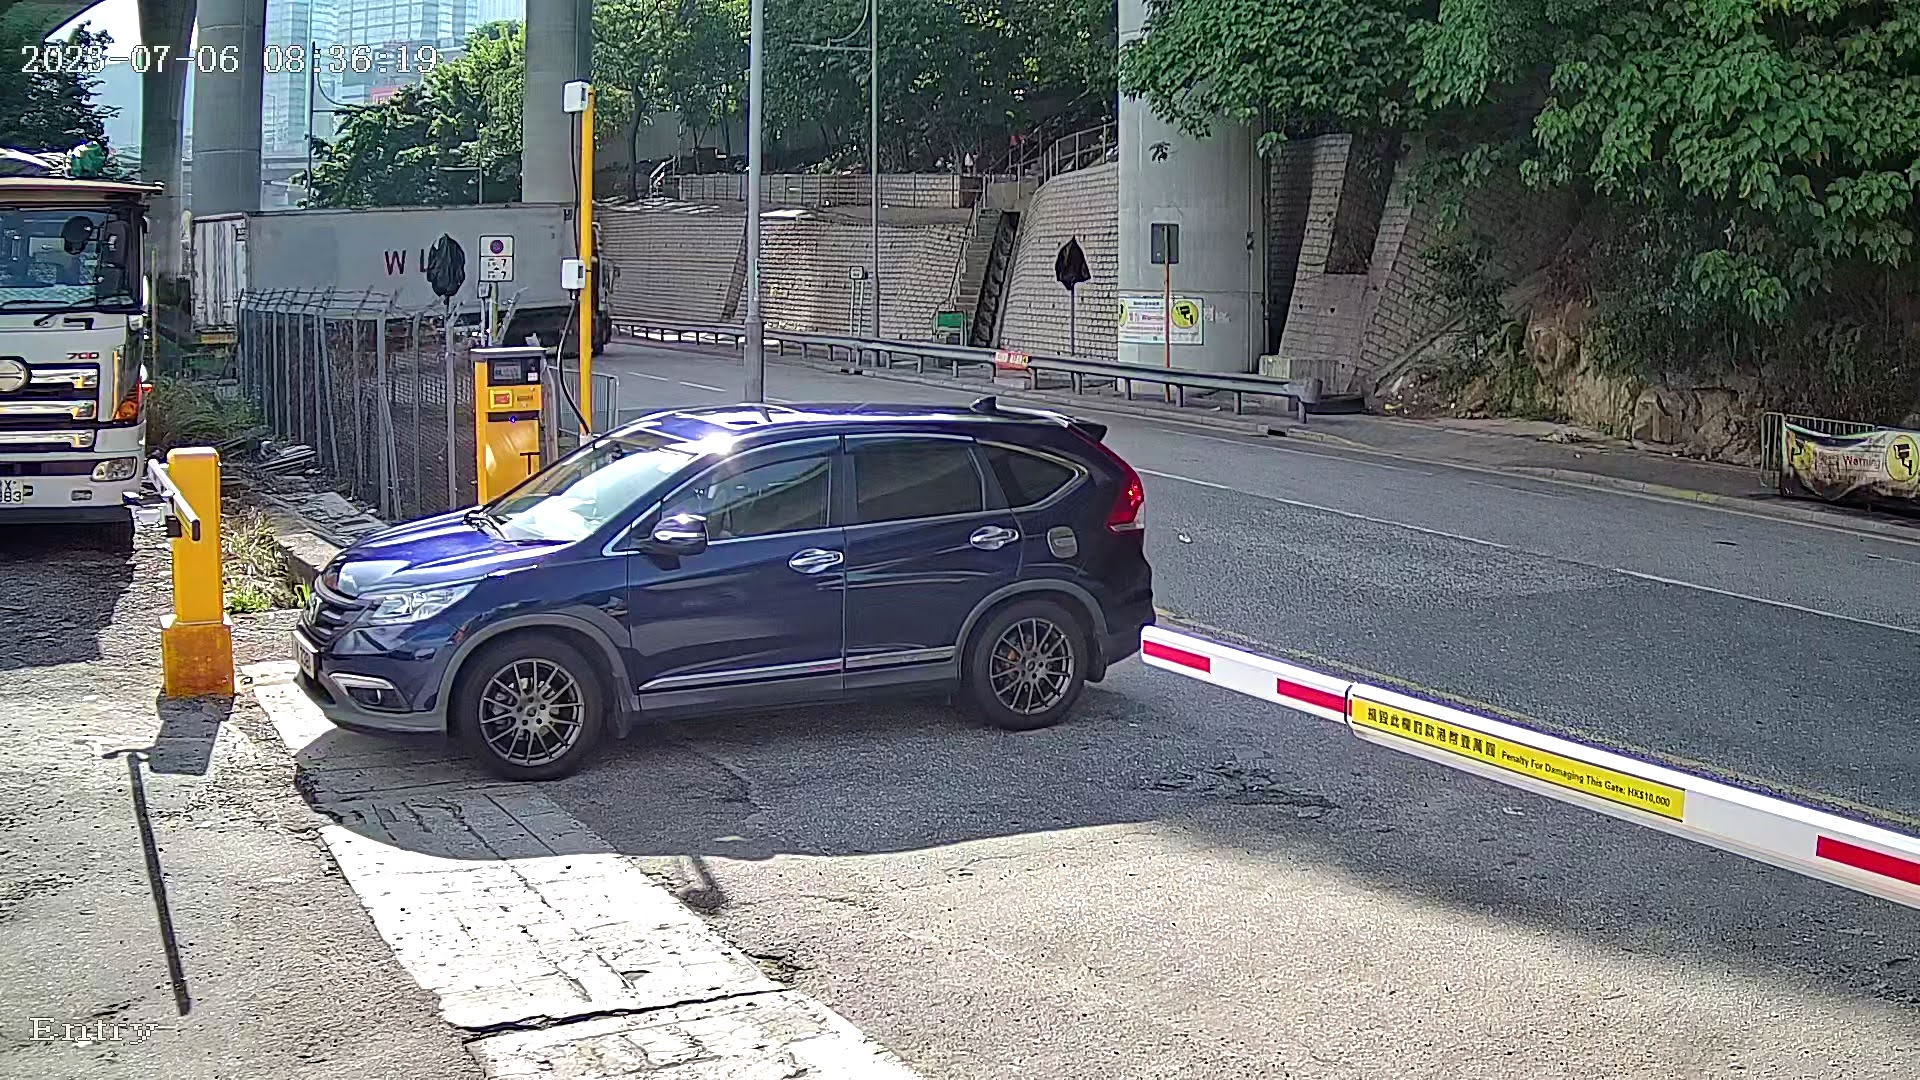privatecar: (258, 339, 1212, 799)
